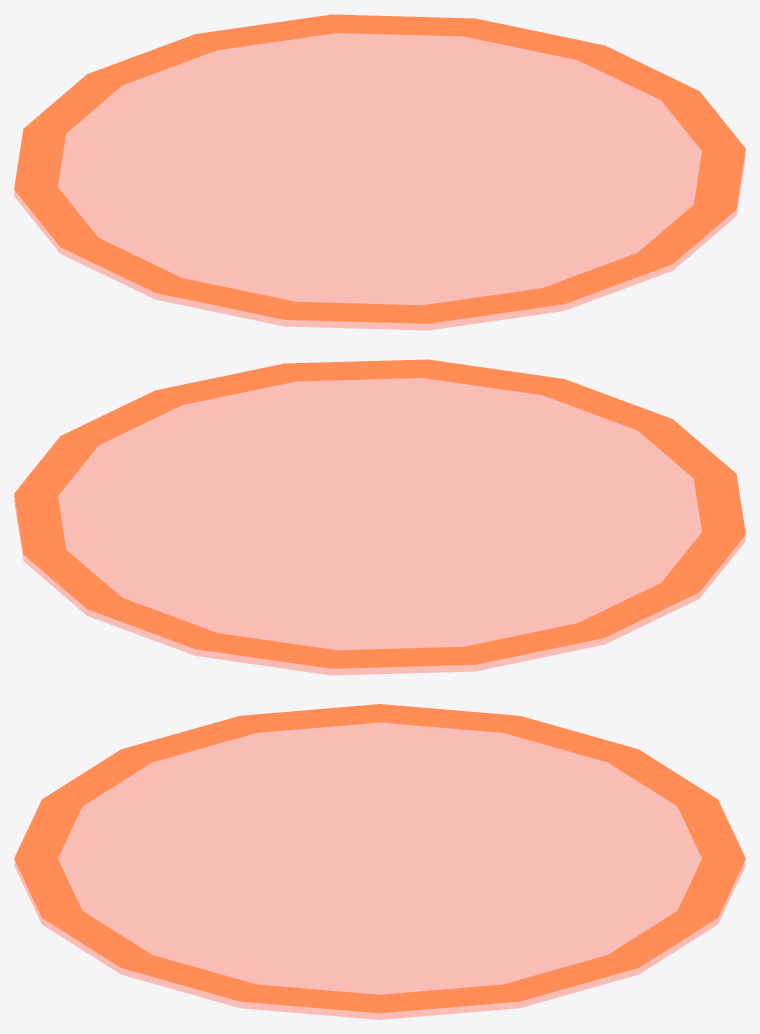
File: fx_r_warn.glb
3 renders of one model, top to bottom at view 1: azimuth 30°, elevation 25°; view 2: azimuth 150°, elevation 25°; view 3: azimuth 270°, elevation 25°, orthographic.
Parts seen in each view (by area): view 1: fx_r_warn_fill, fx_r_warn_rim; view 2: fx_r_warn_fill, fx_r_warn_rim; view 3: fx_r_warn_fill, fx_r_warn_rim.
Part boxes in pixels (x1,y1,x2,y2): fx_r_warn_fill: [14, 33, 745, 330]; fx_r_warn_rim: [14, 14, 745, 323]; fx_r_warn_fill: [14, 378, 745, 675]; fx_r_warn_rim: [14, 359, 745, 668]; fx_r_warn_fill: [14, 723, 745, 1019]; fx_r_warn_rim: [14, 704, 745, 1013].
Bounding box in the file's own units: 2 × 0.02 × 2.
